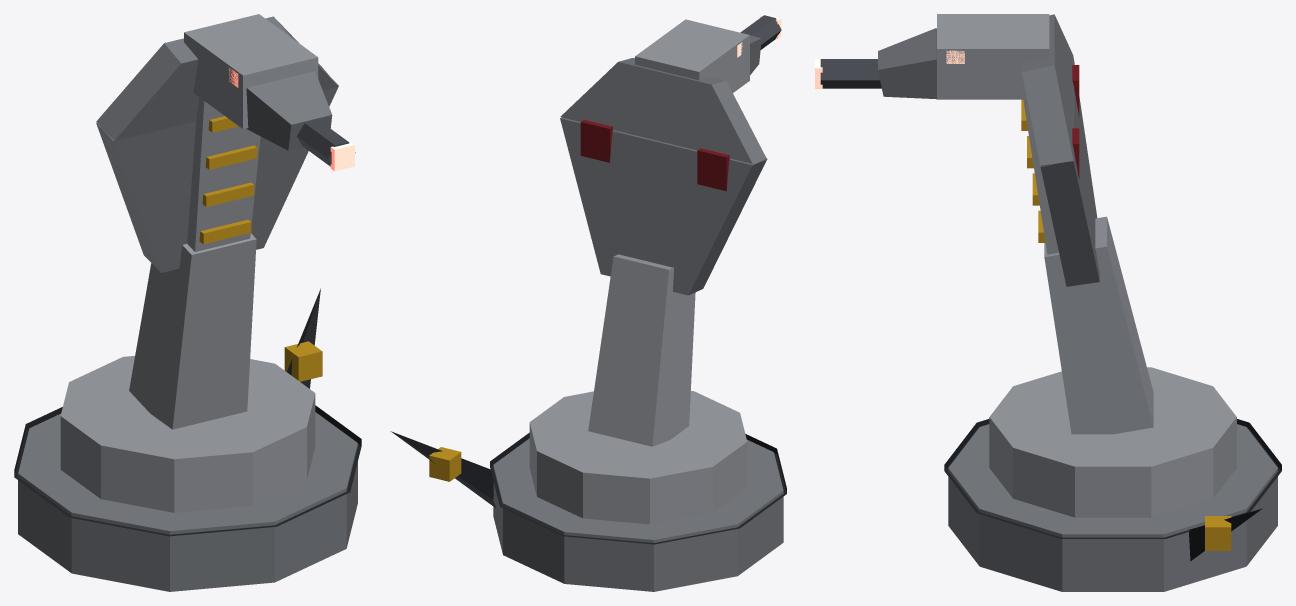
The model's file is gunner.glb.
The picture shows the model from 3 angles, left to right: view 1: azimuth 30°, elevation 25°; view 2: azimuth 150°, elevation 25°; view 3: azimuth 270°, elevation 25°; orthographic projection. The views are drawn at different scales.
Parts seen in each view (by area): view 1: DGunnerHull, DGunnerGlow; view 2: DGunnerHull; view 3: DGunnerHull.
Part boxes in pixels (x1=…): DGunnerHull: x1=14, y1=14, x2=361, y2=591; DGunnerGlow: x1=228, y1=67, x2=354, y2=171; DGunnerHull: x1=390, y1=15, x2=786, y2=591; DGunnerHull: x1=820, y1=14, x2=1281, y2=591.
Size of the model in its own units: 1.05 by 1.46 by 1.25.
